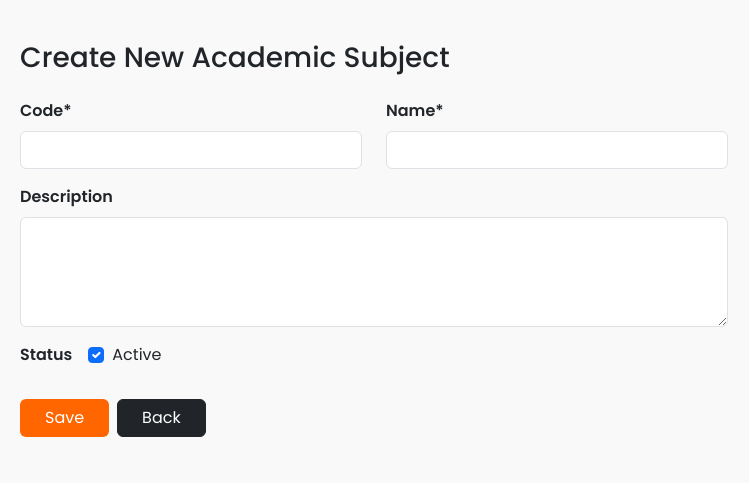
AcademicSubjectForm › should handle API errors gracefully
Expected: the heading "Create New Academic Subject" is shown, [20,38,450,77]
Fill form
Step 1. Type "AS-0000001" into the field below "Code*" → [191, 150], box [20,131,362,169]
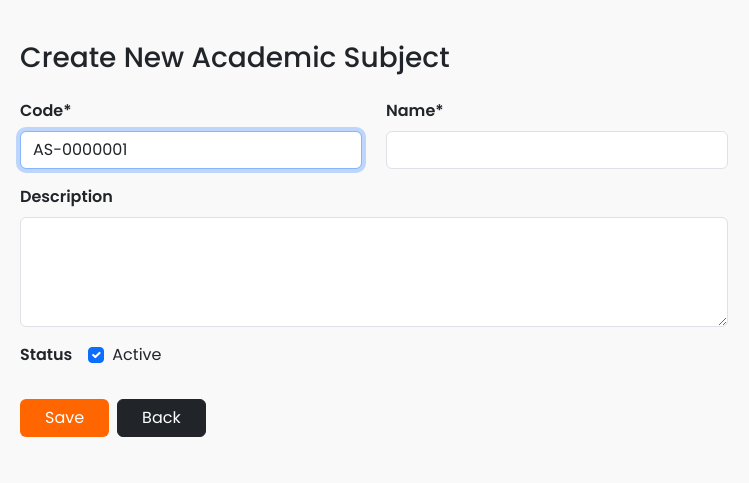
Step 2. Type "Mathematics" into the field below "Name*" → [557, 150], box [386,131,728,169]
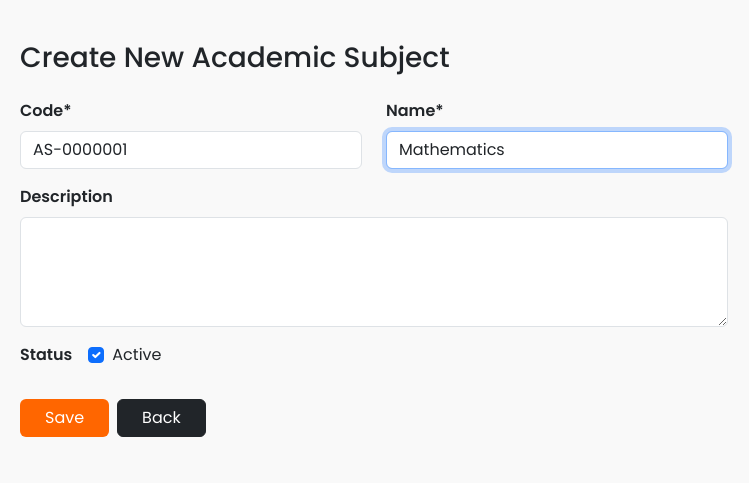
Submit form
Step 3. Click the button "Save" → [65, 418], box [20,399,109,437]
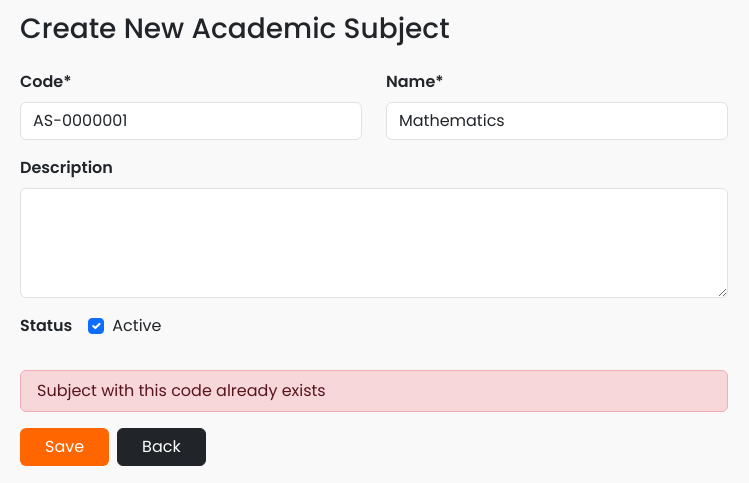
Expected: the text "Subject with this code already exists" is shown, [20,370,728,412]
